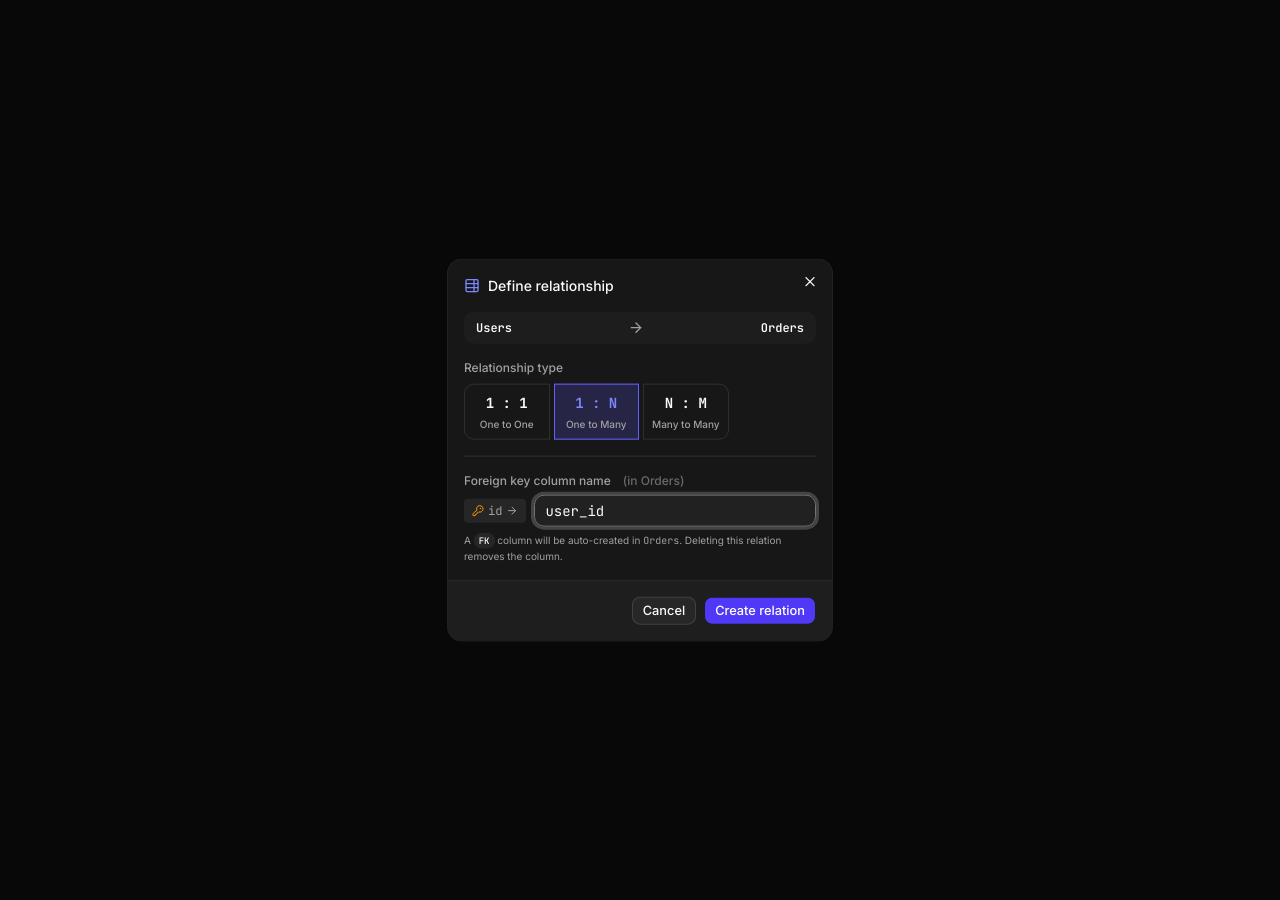
it: ConnectionDialog › shows junction toggle section when many-to-many is selected
Expected: the text "auto-create junction table" is not shown
Step 1. Click the text "N : M" → click(686, 402), box [665, 392, 707, 412]
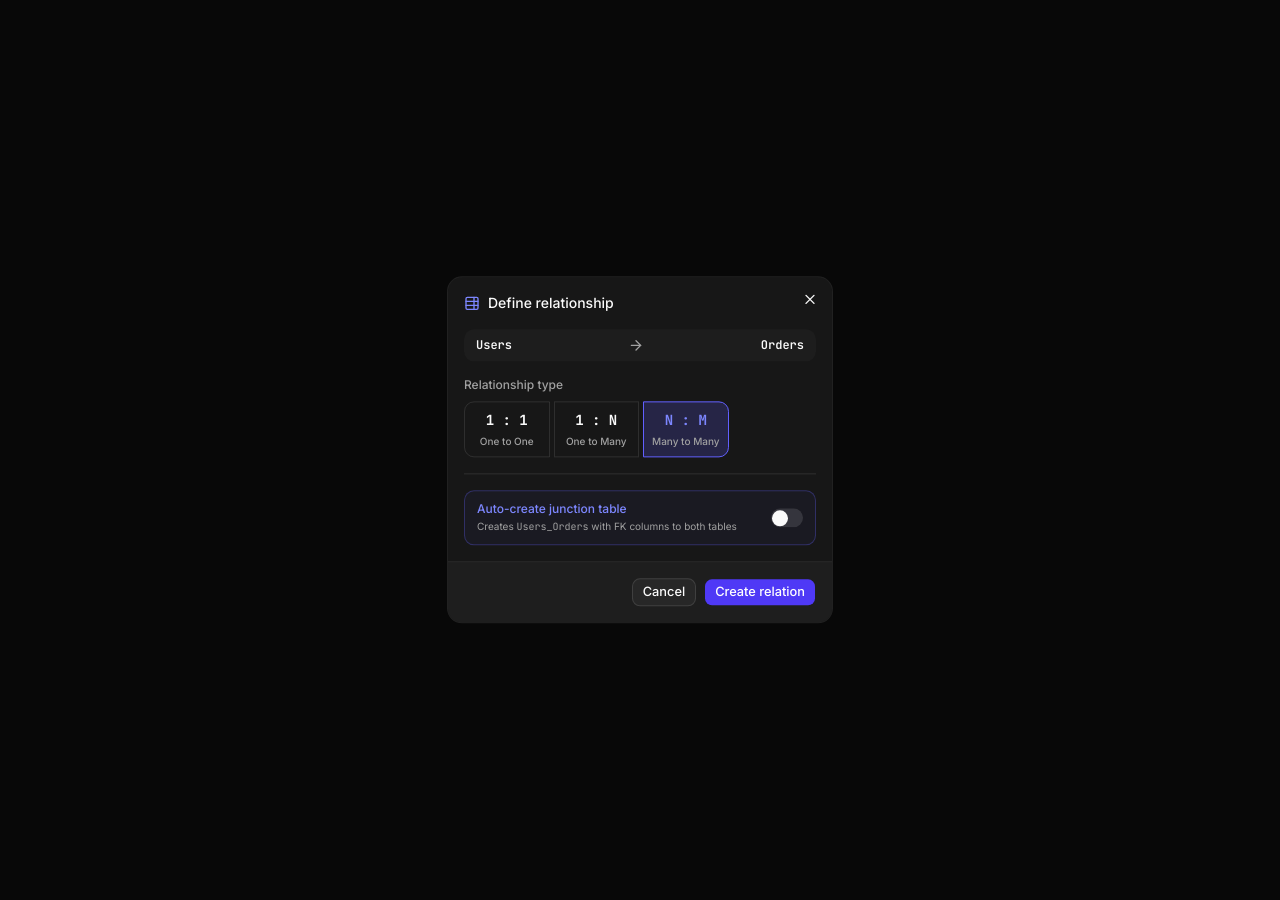
Now the text "Auto-create junction table" is shown, box [477, 501, 627, 516]
